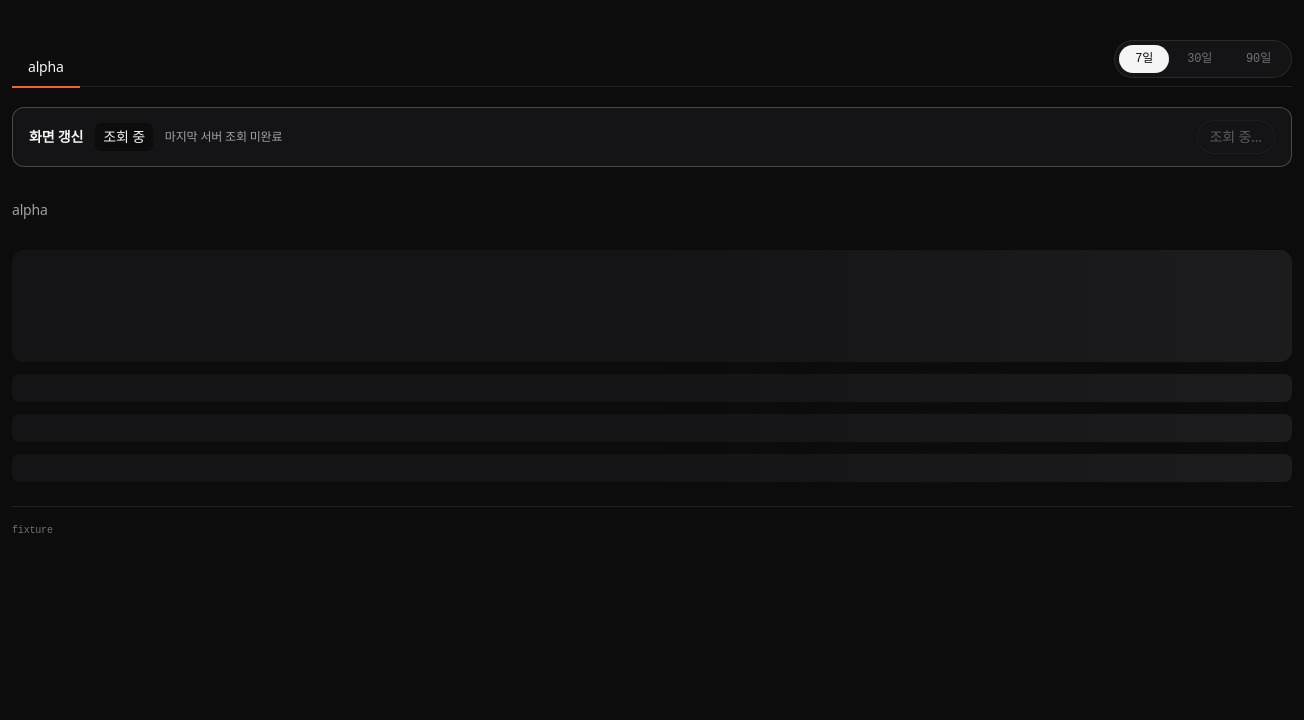
Scenario: 이전 기간의 늦은 응답이 현재 기간을 덮어쓰지 않는다
What coordinates should you click on to do the following:
click the button "30일"
I would click on:
 (1200, 59)
Its box is left=1171, top=45, right=1228, bottom=73.
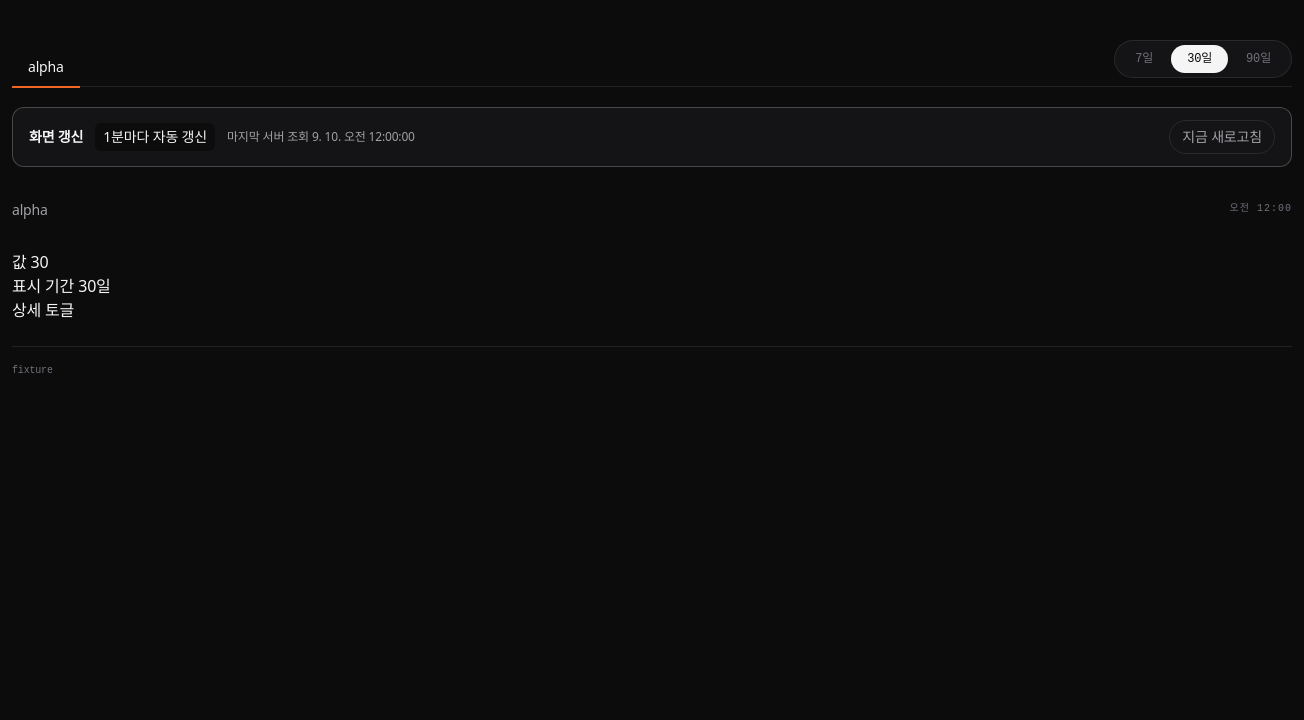
Result: the text "값 30" is shown at left=12, top=251, right=48, bottom=273
